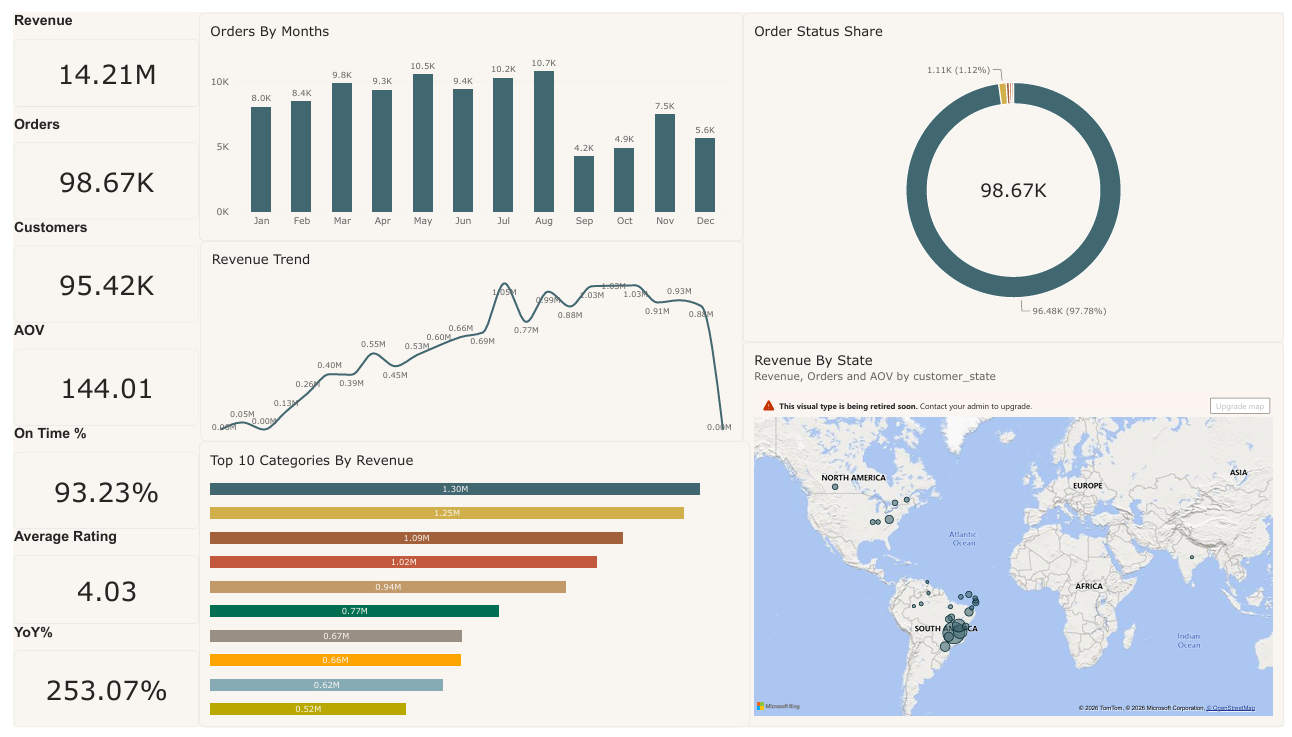

The page's visual inventory and layout, read from the dashboard file:
{"tool":"powerbi","page":{"name":"Business Overview( Executive Dashboard)","canvas":[1920,1080],"ordinal":0},"visuals":[{"type":"cardVisual","title":"Revenue","fields":{"Data":["public bi_fact_sales.Revenue"]},"box":[0,0,280,142],"z":0},{"type":"cardVisual","title":"Orders","fields":{"Data":["public bi_fact_sales.Orders"]},"box":[0,156,279.9,156.4],"z":1000},{"type":"cardVisual","title":"Customers","fields":{"Data":["public bi_fact_sales.Customers"]},"box":[0,312,279.9,156.4],"z":2000},{"type":"cardVisual","title":"AOV","fields":{"Data":["public bi_fact_sales.AOV"]},"box":[0,468,279.9,156.4],"z":3000},{"type":"cardVisual","title":"On Time %","fields":{"Data":["public bi_fact_sales.On-time %"]},"box":[0,624,279.9,156.4],"z":4000},{"type":"cardVisual","title":"Average Rating","fields":{"Data":["public bi_fact_sales.Avg Rating"]},"box":[0,780,280,144],"z":5000},{"type":"cardVisual","title":"YoY%","fields":{"Data":["DimDate.YoY %"]},"box":[0,924,279.9,156.4],"z":6000},{"type":"lineChart","title":"Revenue Trend","fields":{"Category":["DimDate.Year-Month"],"Y":["public bi_fact_sales.Revenue"]},"box":[281.8,345.5,820.5,302.3],"z":7000},{"type":"columnChart","title":"Orders By Months","fields":{"Category":["DimDate.Month"],"Y":["public bi_fact_sales.Orders"]},"box":[279.5,0,822.7,345.5],"z":8000},{"type":"barChart","title":"Top 10 Categories By Revenue","fields":{"Category":["public bi_fact_sales.category"],"Series":["public bi_fact_sales.category"],"Y":["public bi_fact_sales.Revenue"]},"box":[281.8,647.7,820.5,431.8],"z":9000},{"type":"map","title":"Revenue By State","fields":{"Category":["public bi_fact_sales.customer_state"],"Size":["public bi_fact_sales.Revenue"]},"box":[1102.3,497.7,818.2,581.8],"z":10000},{"type":"donutChart","title":"Order Status Share","fields":{"Category":["public bi_fact_sales.order_status"],"Y":["public bi_fact_sales.Orders"]},"box":[1102.3,0,818.2,497.7],"z":11000},{"type":"barChart","title":"Top 10 Categories By Revenue","fields":{"Category":["public bi_fact_sales.category"],"Series":["public bi_fact_sales.category"],"Y":["public bi_fact_sales.Revenue"]},"box":[280.4,648.2,832.1,432.1],"z":12000}]}

Visuals, with their boxes in screenshot pixels (x1, y1, x2, y2), scaled from the page's 1920x1080 canvas onto the 1292x737 screenshot:
"Revenue" cardVisual: Rect(0, 0, 188, 97)
"Orders" cardVisual: Rect(0, 106, 188, 213)
"Customers" cardVisual: Rect(0, 213, 188, 320)
"AOV" cardVisual: Rect(0, 319, 188, 426)
"On Time %" cardVisual: Rect(0, 426, 188, 533)
"Average Rating" cardVisual: Rect(0, 532, 188, 631)
"YoY%" cardVisual: Rect(0, 631, 188, 736)
"Revenue Trend" lineChart: Rect(190, 236, 742, 442)
"Orders By Months" columnChart: Rect(188, 0, 742, 236)
"Top 10 Categories By Revenue" barChart: Rect(190, 442, 742, 736)
"Revenue By State" map: Rect(742, 340, 1291, 736)
"Order Status Share" donutChart: Rect(742, 0, 1291, 340)
"Top 10 Categories By Revenue" barChart: Rect(189, 442, 749, 736)
